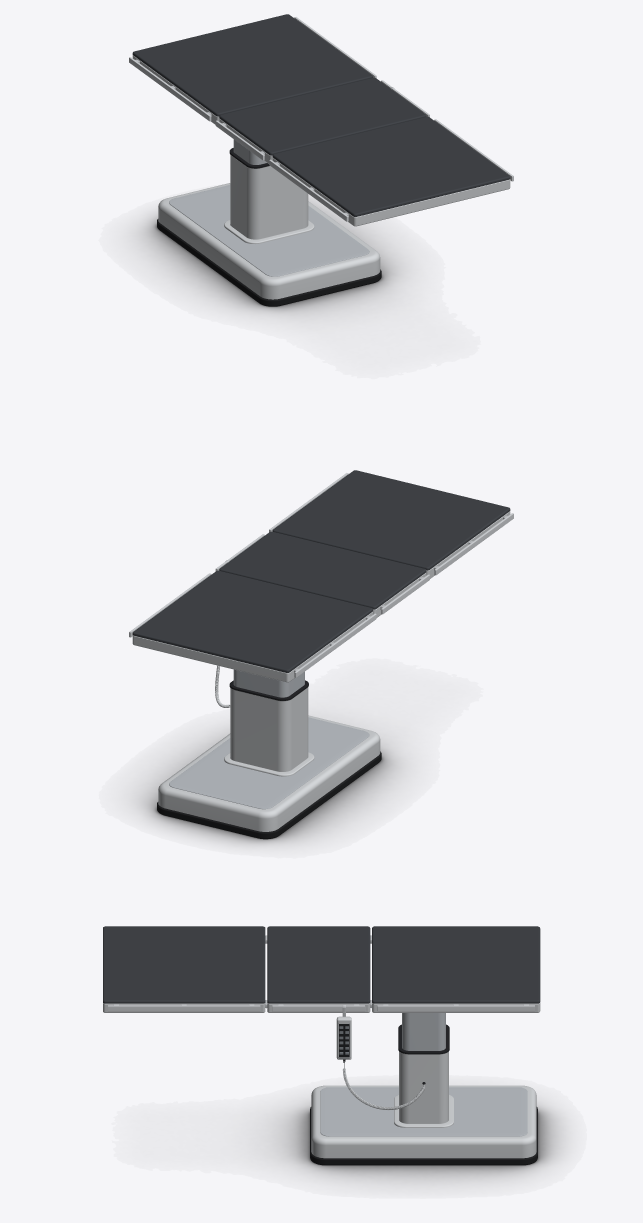
File: mesa-quirurgica.glb
3 views of the same model, one above another, from view 1: azimuth 30°, elevation 25°; view 2: azimuth 150°, elevation 25°; view 3: azimuth 270°, elevation 25° (orthographic).
Parts seen in each view (by area): view 1: tablero, base, sombra, columna; view 2: tablero, base, columna, sombra; view 3: tablero, base, sombra, columna, mando.
Part boxes in pixels (x1,y1,x2,y2): tablero: [129, 14, 513, 226]; base: [157, 183, 381, 306]; sombra: [141, 201, 399, 313]; columna: [229, 139, 308, 239]; tablero: [129, 470, 513, 682]; base: [157, 715, 381, 838]; columna: [229, 669, 308, 771]; sombra: [141, 732, 397, 844]; tablero: [103, 926, 540, 1012]; base: [310, 1085, 537, 1165]; sombra: [278, 1103, 559, 1180]; columna: [398, 1013, 449, 1123]; mando: [336, 1005, 424, 1110].
Size of the model in its own units: 1.5 by 0.8399 by 2.7.
Materials: 9 (1 with a texture image).
